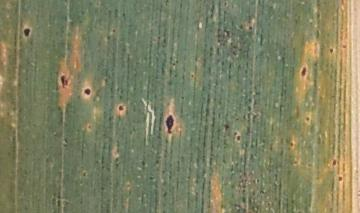tarspot: (162, 110, 178, 139), (56, 71, 72, 92), (298, 63, 310, 82), (20, 22, 33, 39), (80, 84, 93, 98), (114, 101, 126, 114), (334, 171, 346, 184), (221, 121, 232, 133), (329, 155, 340, 167), (286, 137, 296, 150), (338, 41, 348, 54), (304, 112, 312, 125), (233, 133, 243, 143), (328, 45, 337, 56)
